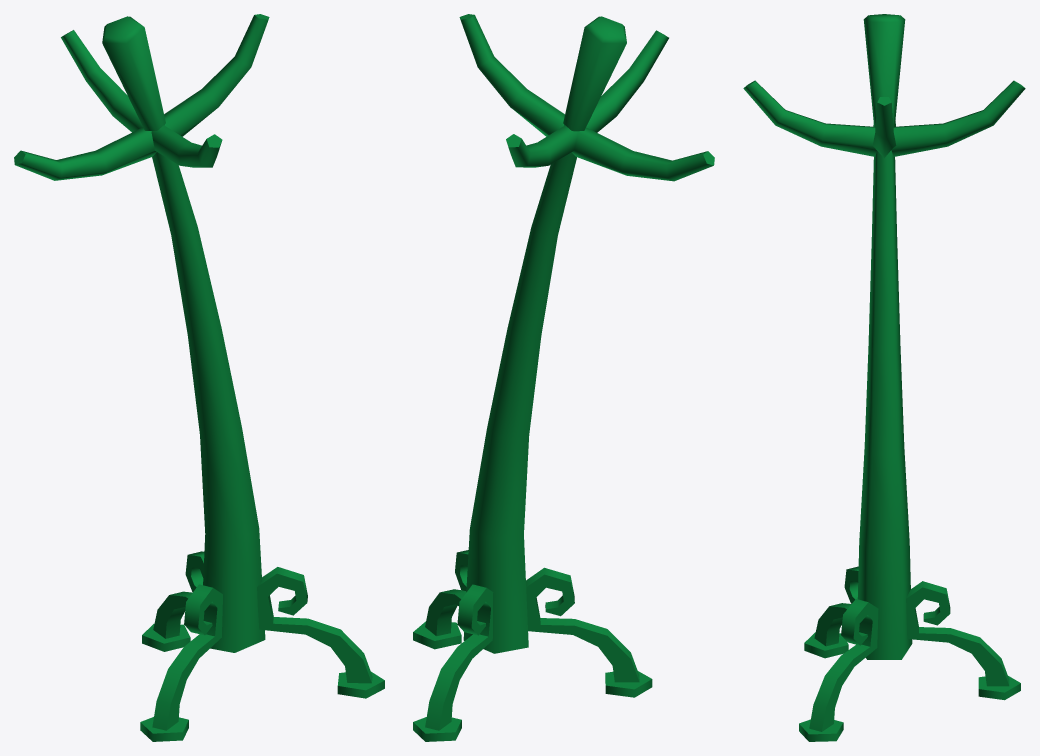
Rendered from CoatStand.obj.
3 renders of one model, left to right at view 1: azimuth 30°, elevation 25°; view 2: azimuth 150°, elevation 25°; view 3: azimuth 270°, elevation 25°, orthographic. The views are drawn at different scales.
Parts seen in each view (by area): view 1: CoatStand; view 2: CoatStand; view 3: CoatStand.
Part boxes in pixels (box(x1,y1,x2,y2)): CoatStand: box(14, 14, 384, 741); CoatStand: box(413, 14, 714, 741); CoatStand: box(743, 14, 1025, 741).
Size of the model in its own units: 80.48 by 161 by 65.51.
